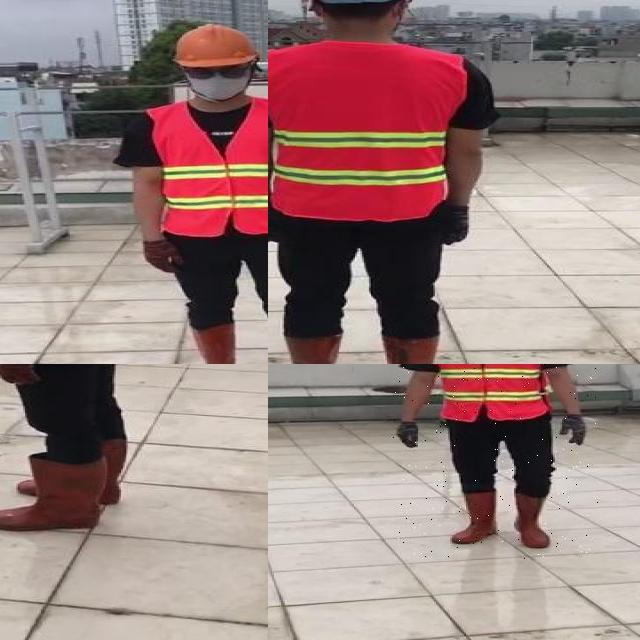boots: (0, 457, 104, 531), (22, 436, 128, 504), (452, 491, 498, 545), (510, 492, 554, 547), (276, 334, 344, 364), (187, 325, 237, 364), (382, 334, 444, 364)
face_mask: (183, 61, 254, 100)
glasses: (186, 58, 252, 83)
hand_glove: (141, 239, 184, 273), (446, 205, 470, 244), (0, 364, 35, 385), (268, 205, 277, 243)
head_helmet: (167, 21, 261, 70)
person: (268, 0, 485, 364), (120, 18, 268, 364), (393, 364, 598, 559), (0, 364, 161, 540)
vest: (268, 44, 463, 220), (151, 100, 268, 237), (434, 364, 550, 420)
